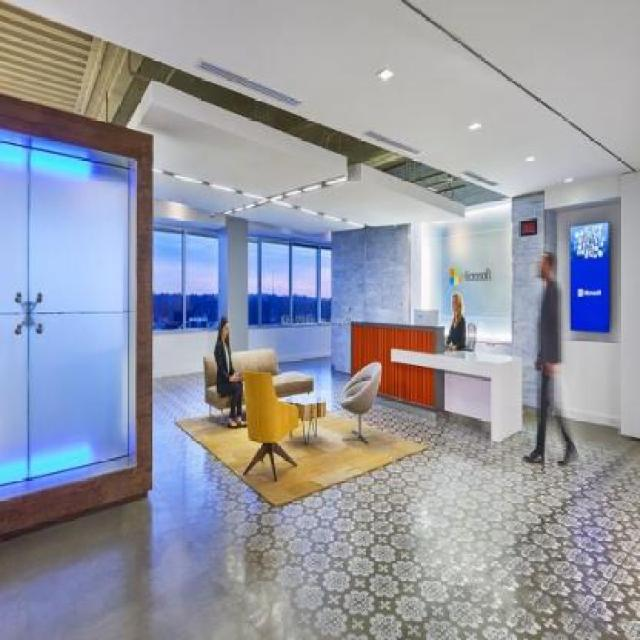frontdesk: (348, 308, 528, 454)
